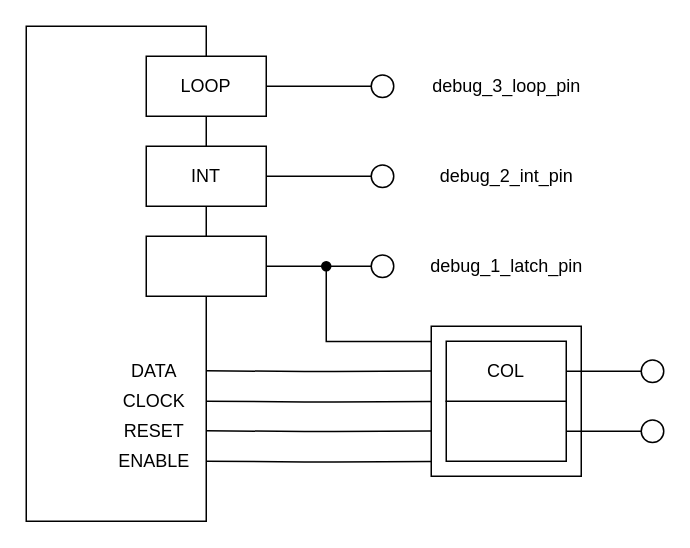
This 690x548 diagram has some shape labels left out. The shapes that lost their labels are listed below. From the top down, each one's centre as x and y in pixels, then its label:
point 205,265: LATCH
point 505,430: ROW
